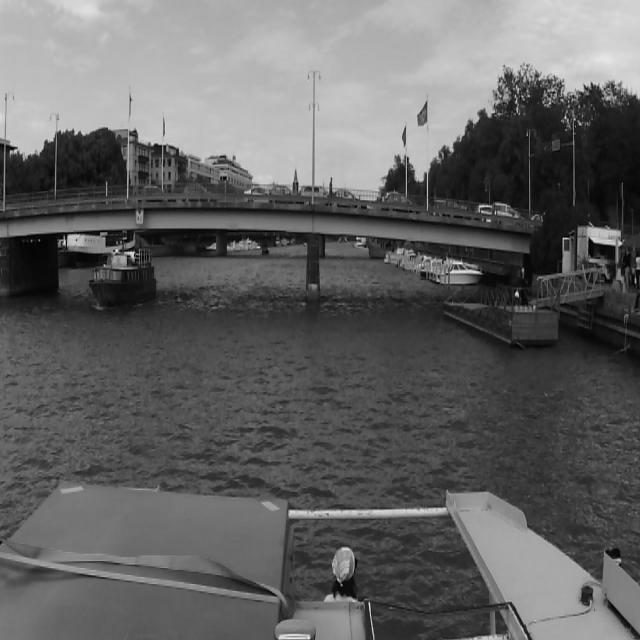ship: (89, 244, 158, 313), (437, 262, 483, 284), (261, 243, 271, 254)
